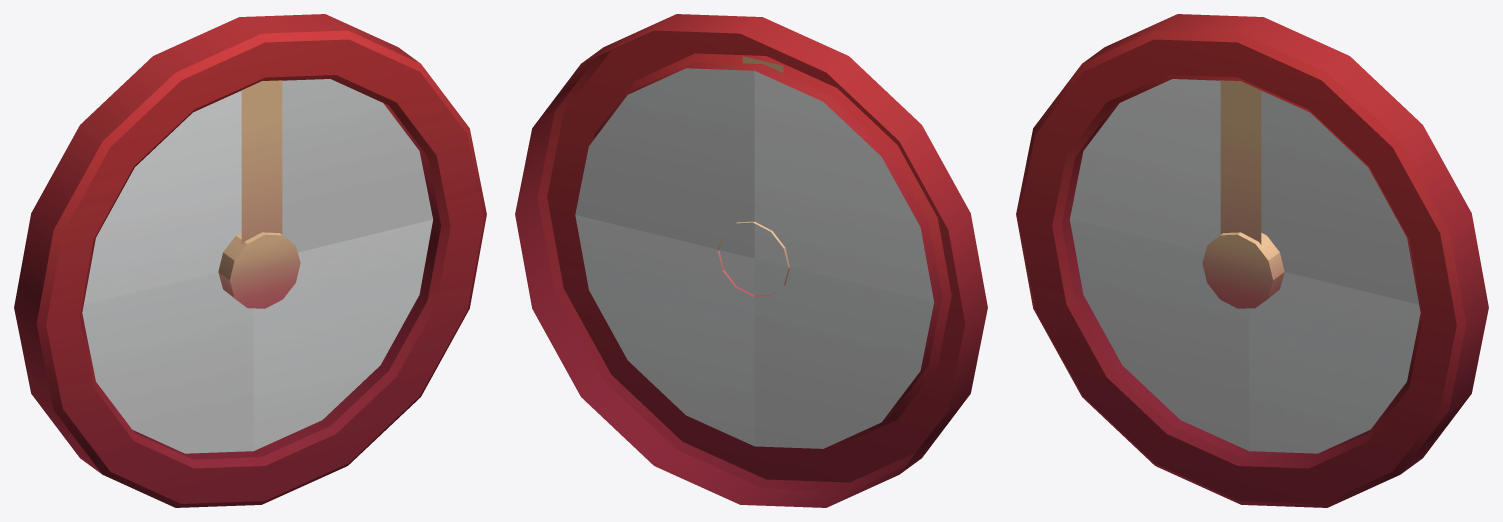
File: mesh_clock.fbx
3 renders of one model, left to right at view 1: azimuth 30°, elevation 25°; view 2: azimuth 150°, elevation 25°; view 3: azimuth 330°, elevation 25°, orthographic.
Parts seen in each view (by area): view 1: mesh_clock, mesh_hand; view 2: mesh_clock; view 3: mesh_clock, mesh_hand.
Part boxes in pixels (bbox=[...]): mesh_clock: bbox=[14, 14, 486, 507]; mesh_hand: bbox=[241, 80, 282, 244]; mesh_clock: bbox=[515, 14, 987, 507]; mesh_clock: bbox=[1016, 14, 1488, 507]; mesh_hand: bbox=[1220, 80, 1261, 244].
Bounding box in the file's own units: 1.24 × 1.24 × 0.1236.
1 material, 1 textured.
